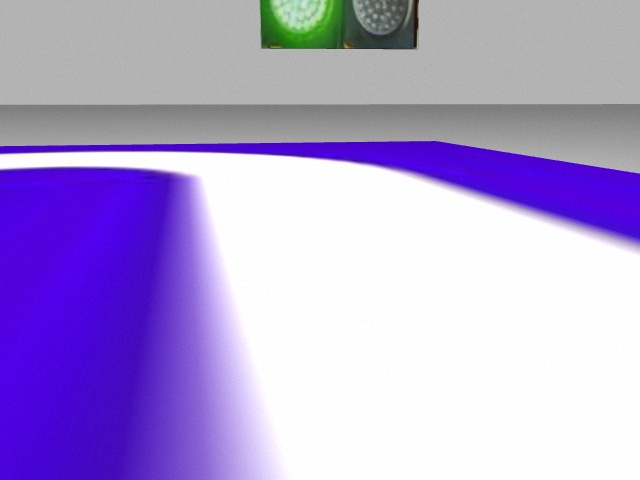green: (259, 1, 344, 47)
